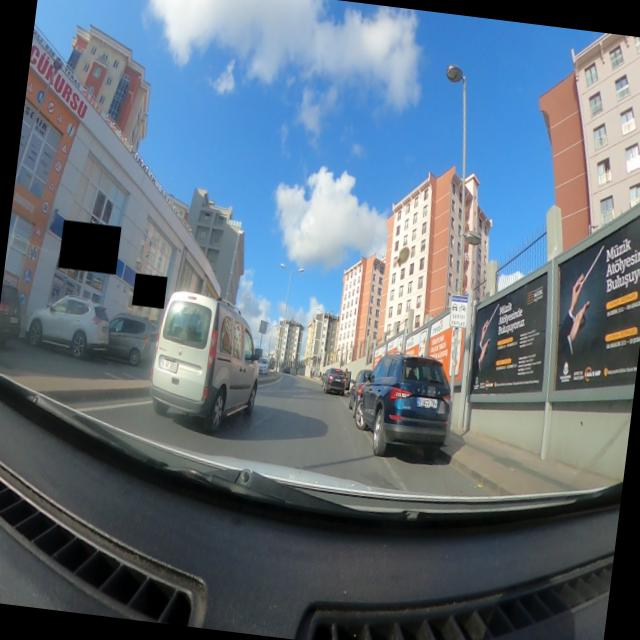SignStore: (61, 220, 117, 274), (133, 273, 165, 308)
